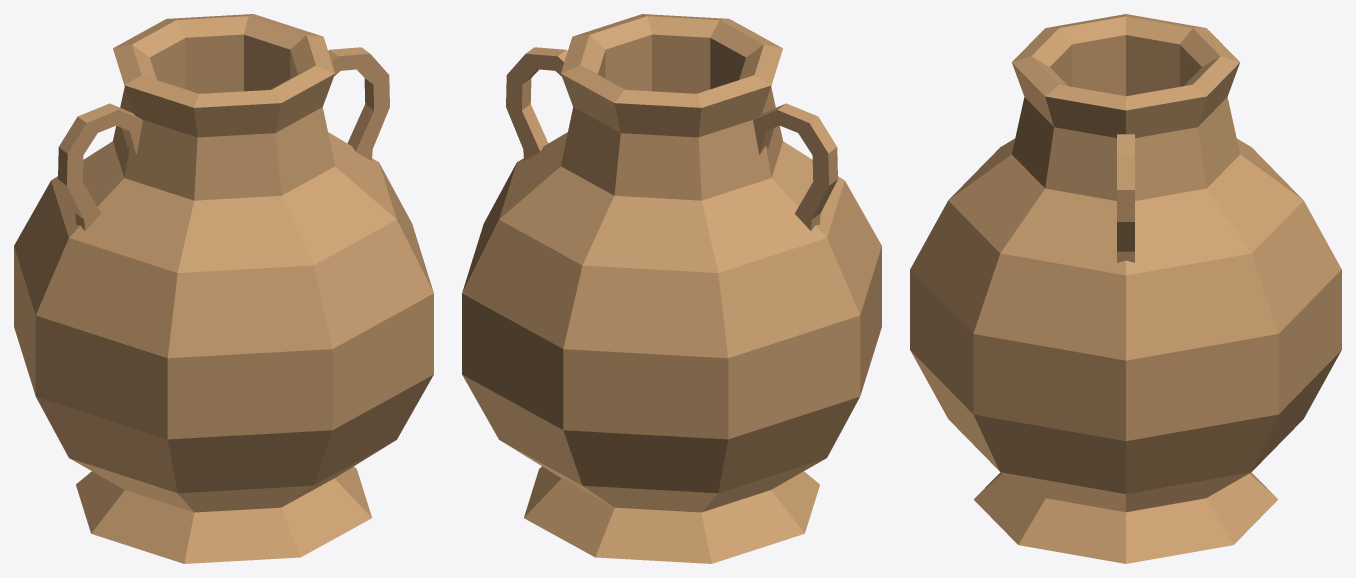
Rendered from Prop_Vase_3.fbx.
3 views of the same model, side by side, from view 1: azimuth 30°, elevation 25°; view 2: azimuth 150°, elevation 25°; view 3: azimuth 270°, elevation 25° (orthographic).
Parts seen in each view (by area): view 1: object1; view 2: object1; view 3: object1.
Part boxes in pixels (x1,y1,x2,y2): object1: (14, 14, 433, 563); object1: (462, 14, 881, 563); object1: (910, 14, 1341, 563).
Bounding box in the file's own units: 0.425 × 0.4815 × 0.425.
